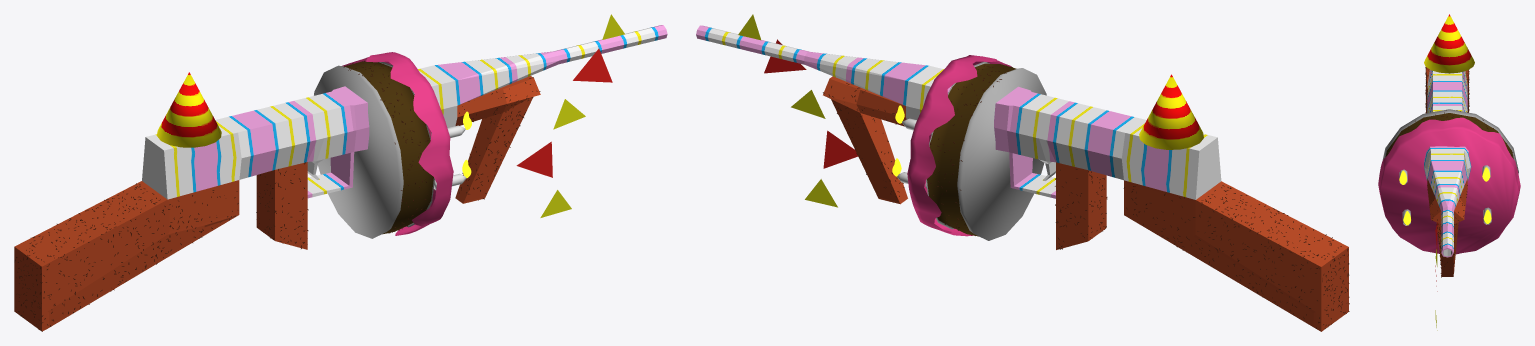
Rendered from birtday-gun.fbx.
3 views of the same model, side by side, from view 1: azimuth 30°, elevation 25°; view 2: azimuth 150°, elevation 25°; view 3: azimuth 270°, elevation 25° (orthographic). The views are drawn at different scales.
Visible parts, largest first — view 1: Arma; view 2: Arma; view 3: Arma.
Part boxes in pixels (x1=…): Arma: x1=14, y1=14, x2=667, y2=331; Arma: x1=696, y1=14, x2=1348, y2=331; Arma: x1=1378, y1=14, x2=1520, y2=330.
Bounding box in the file's own units: 2864 × 961 × 709.
